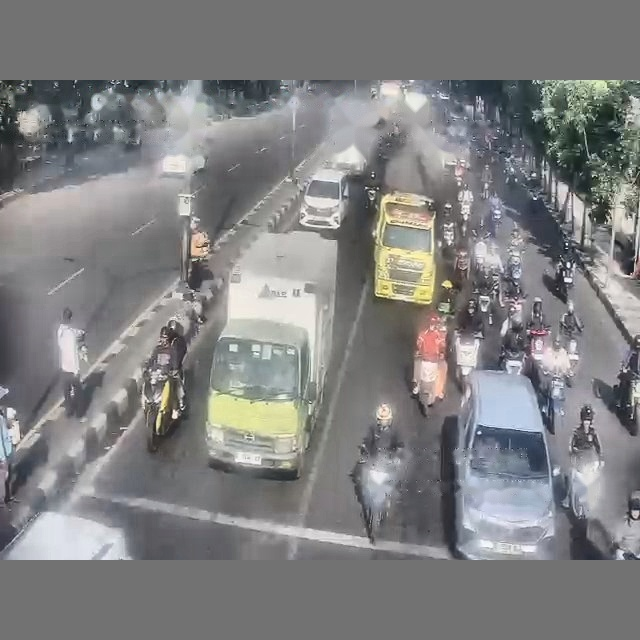Mobil: (453, 370, 559, 559), (1, 511, 130, 559), (160, 149, 205, 176)
Motor: (357, 453, 401, 543), (141, 367, 180, 452), (567, 449, 603, 521), (614, 372, 639, 435), (455, 332, 482, 388), (543, 370, 565, 433), (417, 359, 438, 415), (560, 323, 579, 372), (556, 258, 574, 301), (528, 326, 549, 361), (502, 350, 526, 375), (454, 247, 470, 283)
Truk: (206, 231, 337, 477), (372, 191, 435, 304)
